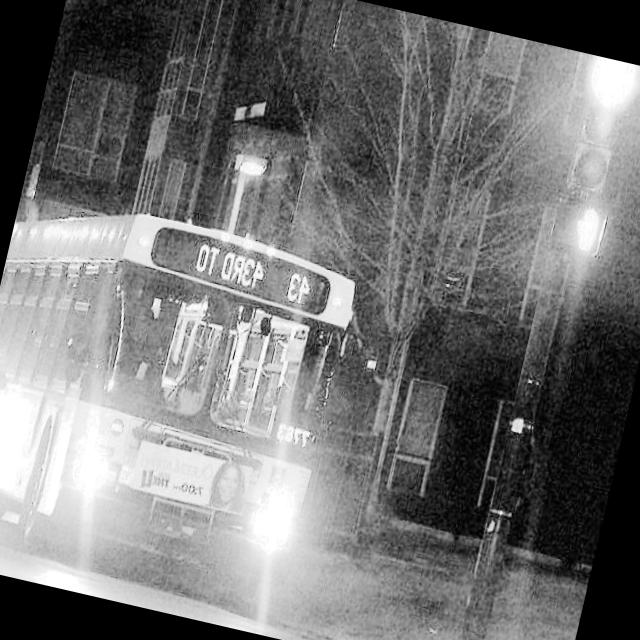Bus: (0, 165, 374, 614)
